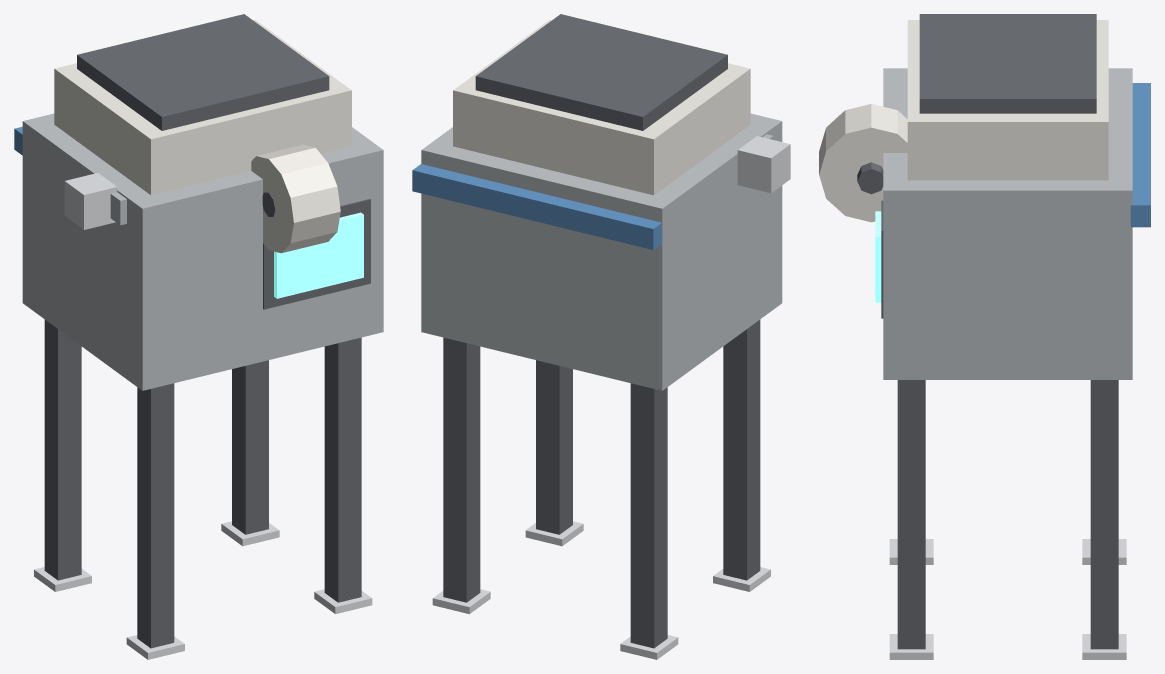
Rendered from parcel-depot-and-sorting-hall-parcel-depot-and-sorting-949db989__34791.glb.
3 renders of one model, left to right at view 1: azimuth 30°, elevation 25°; view 2: azimuth 150°, elevation 25°; view 3: azimuth 270°, elevation 25°, orthographic. The views are drawn at different scales.
Parts seen in each view (by area): view 1: parcel-depot-and-sorting-hall-label-printer-and-applicator, applicator-arm/steel; view 2: parcel-depot-and-sorting-hall-label-printer-and-applicator, applicator-arm/steel; view 3: parcel-depot-and-sorting-hall-label-printer-and-applicator.
Part boxes in pixels (left/top/right/bottom): parcel-depot-and-sorting-hall-label-printer-and-applicator: left=14, top=14, right=383, bottom=659; applicator-arm/steel: left=64, top=173, right=117, bottom=229; parcel-depot-and-sorting-hall-label-printer-and-applicator: left=412, top=14, right=782, bottom=659; applicator-arm/steel: left=737, top=136, right=790, bottom=193; parcel-depot-and-sorting-hall-label-printer-and-applicator: left=819, top=14, right=1150, bottom=659.
Bounding box in the file's own units: 0.8212 × 1.5 × 0.825.
